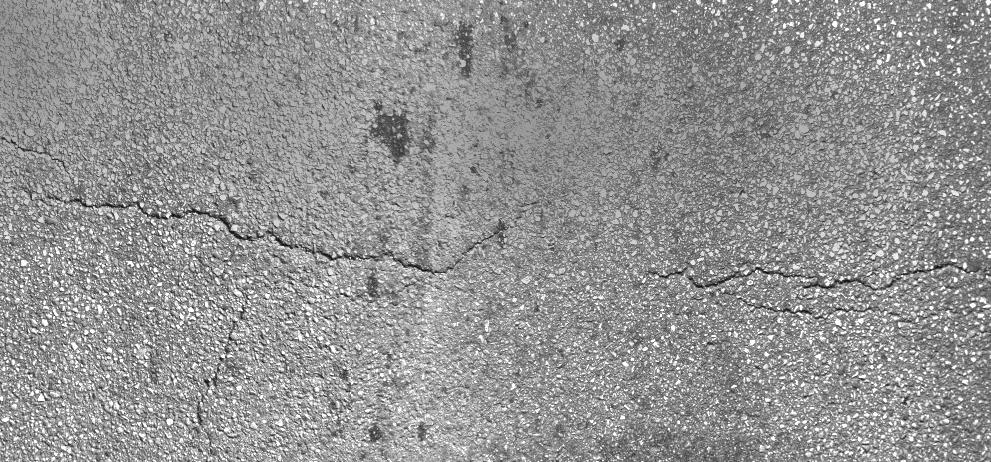crack: (0, 172, 512, 282), (649, 251, 991, 299), (188, 271, 252, 462), (742, 291, 905, 321), (0, 128, 75, 179)
